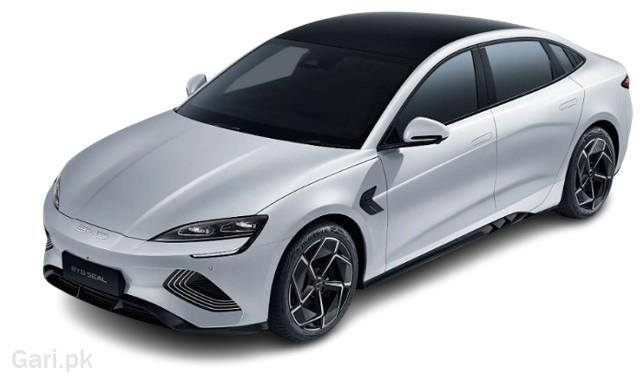Sedan: (35, 8, 635, 353)
